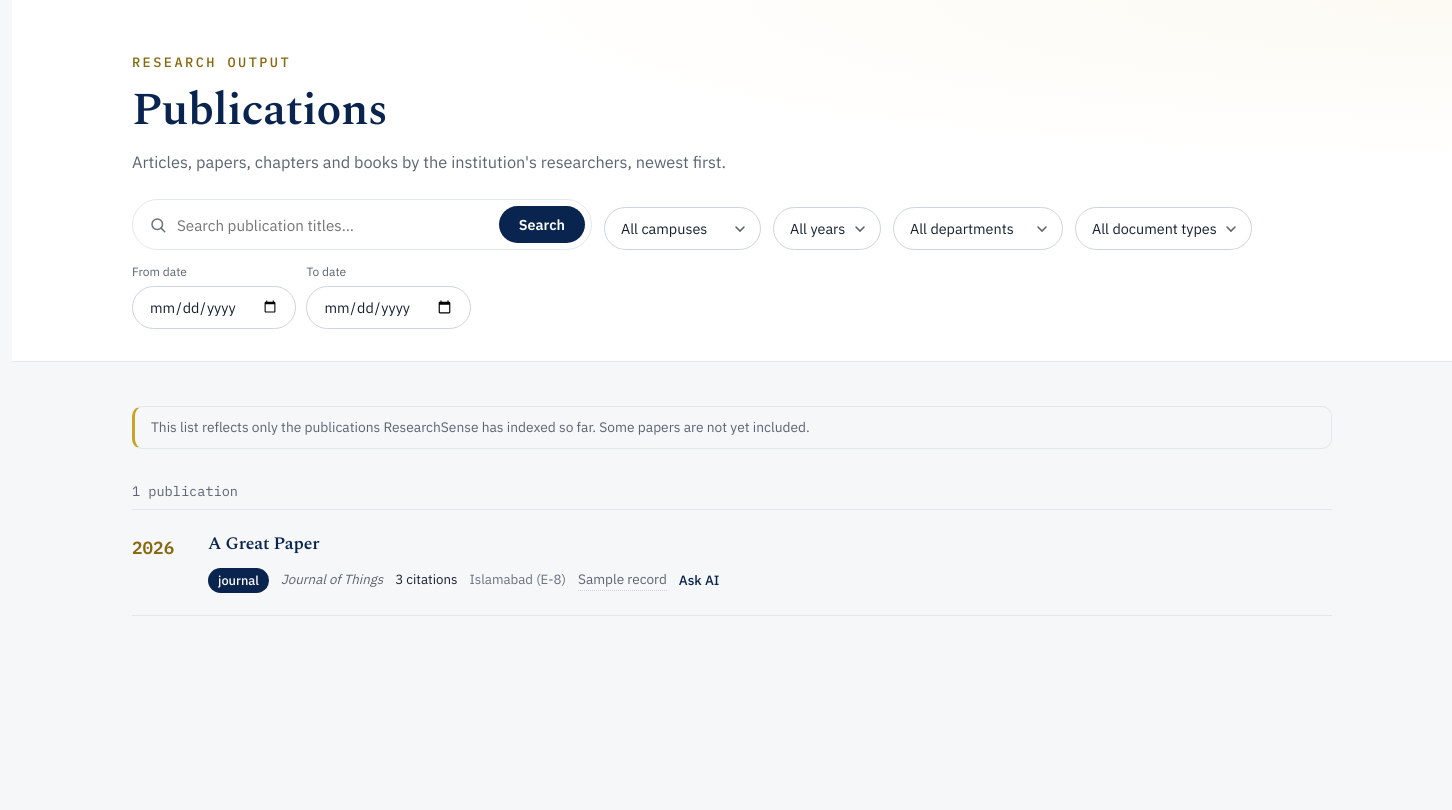
Scenario: Publications › keeps the applied filters in the URL
The image size is (1452, 810).
Expected: the link "A Great Paper" is shown, top-left (208, 530), bottom-right (319, 557)
Select "2025" in the dropdown named "Filter by year": point(827, 229) top-left (773, 207), bottom-right (881, 250)
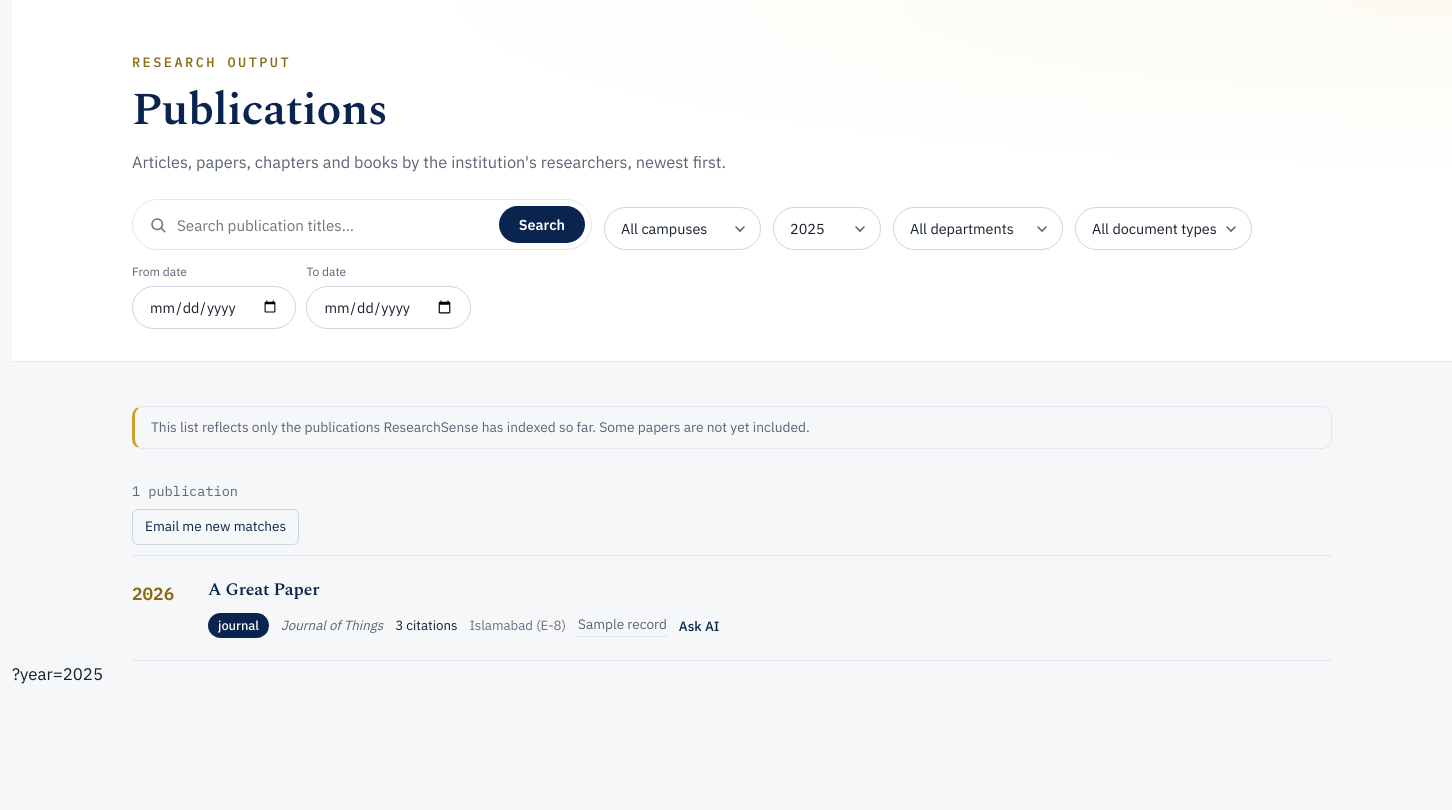
Result: the text with test id "where" reads "?year=2025" at top-left (12, 664), bottom-right (103, 686)
